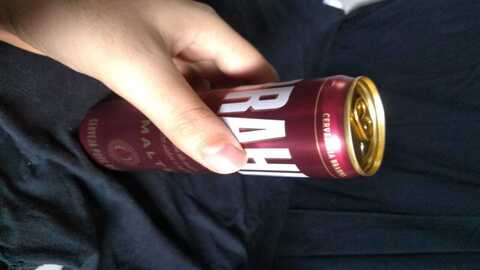duplo_malte: (78, 74, 345, 200)
